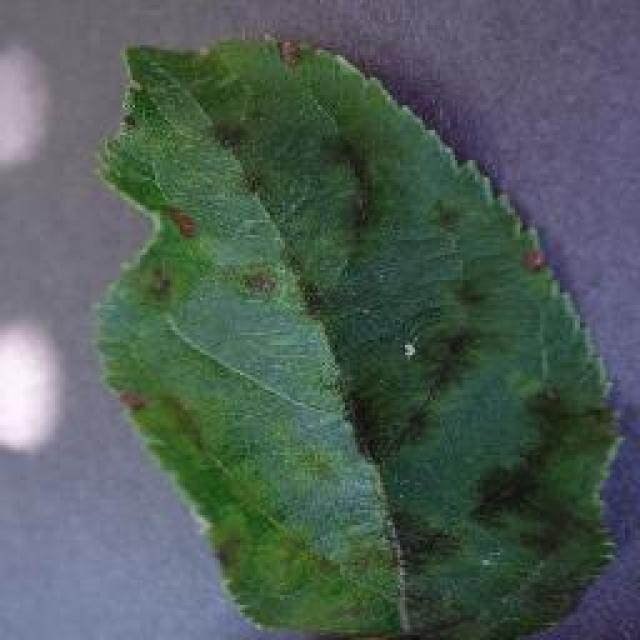apple scab disease: (90, 32, 625, 638)
